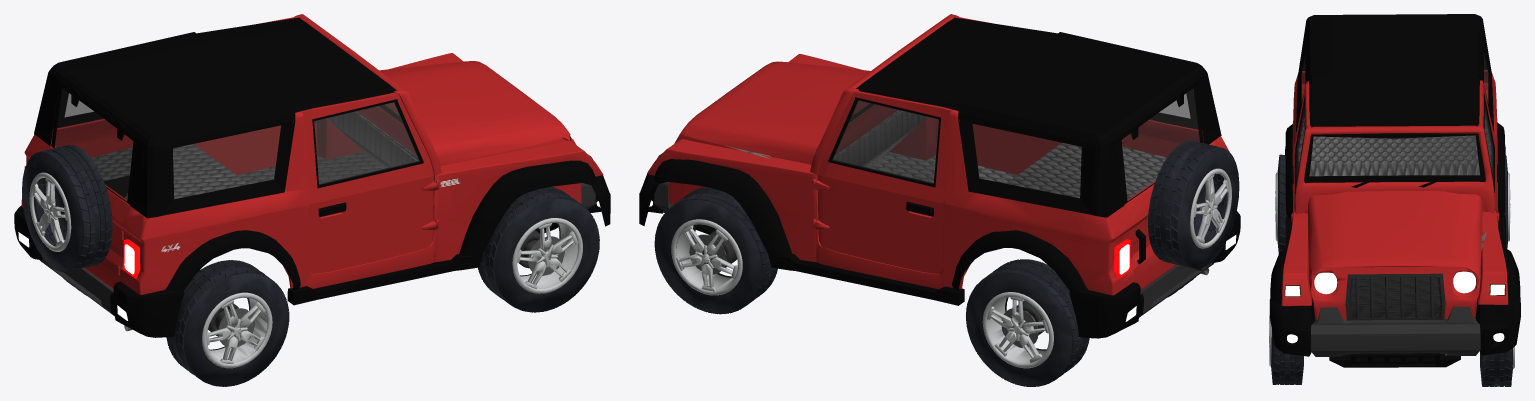
The model's file is mahindra-thar.glb.
The picture shows the model from 3 angles, left to right: view 1: azimuth 30°, elevation 25°; view 2: azimuth 150°, elevation 25°; view 3: azimuth 270°, elevation 25°; orthographic projection. The views are drawn at different scales.
Visible parts, largest first — view 1: car; view 2: car; view 3: car.
Boxes of the visible parts, x1,y1,x2,y2 form: car: (14,14,610,386); car: (639,14,1240,386); car: (1269,14,1520,386).
Size of the model in its own units: 3.99 by 1.88 by 2.
Materials: 37 (15 with a texture image).
